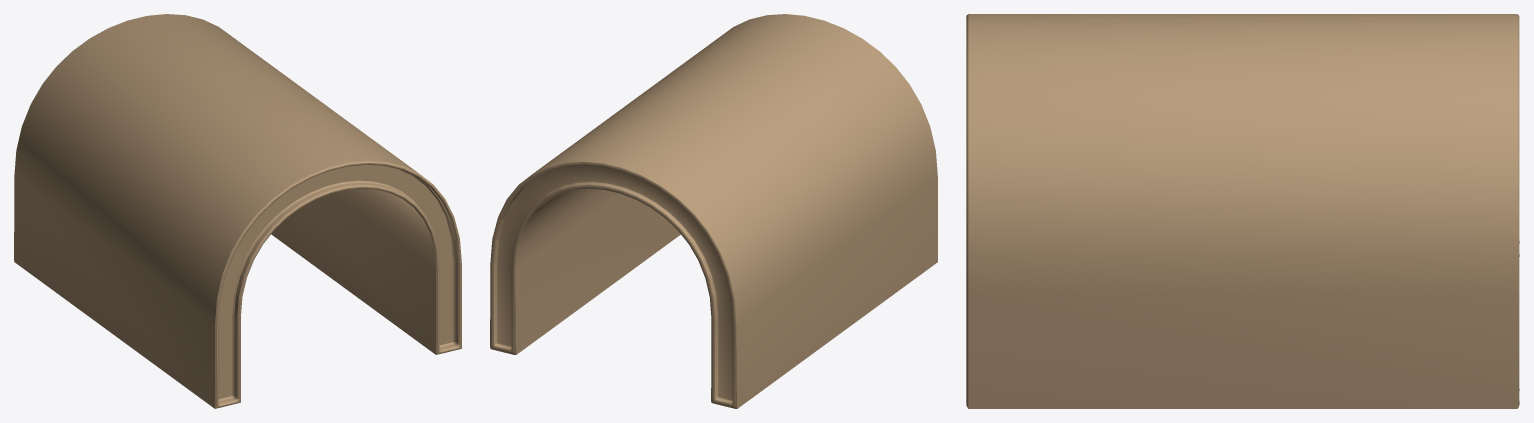
The model's file is tunel.fbx.
3 renders of one model, left to right at view 1: azimuth 30°, elevation 25°; view 2: azimuth 150°, elevation 25°; view 3: azimuth 270°, elevation 25°, orthographic. The views are drawn at different scales.
Parts seen in each view (by area): view 1: Cube.001; view 2: Cube.001; view 3: Cube.001.
Part boxes in pixels (x1=…): Cube.001: x1=14, y1=14, x2=461, y2=408; Cube.001: x1=490, y1=14, x2=937, y2=408; Cube.001: x1=966, y1=14, x2=1519, y2=408.
Size of the model in its own units: 3069 by 2541 by 4357.
